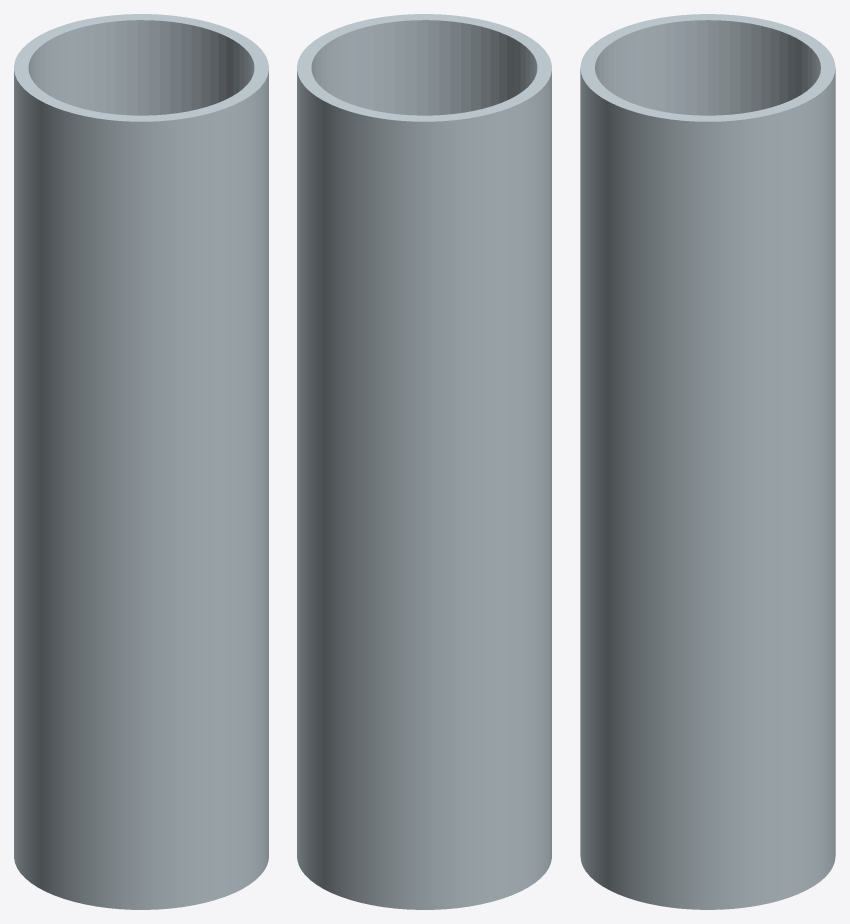
File: glass.glb
3 renders of one model, left to right at view 1: azimuth 30°, elevation 25°; view 2: azimuth 150°, elevation 25°; view 3: azimuth 270°, elevation 25°, orthographic.
Visible parts, largest first — view 1: Cylinder.002; view 2: Cylinder.002; view 3: Cylinder.002.
Boxes of the visible parts, x1,y1,x2,y2 form: Cylinder.002: (14, 14, 268, 909); Cylinder.002: (297, 14, 551, 909); Cylinder.002: (580, 14, 835, 909).
Size of the model in its own units: 1.76 by 6 by 1.76.
